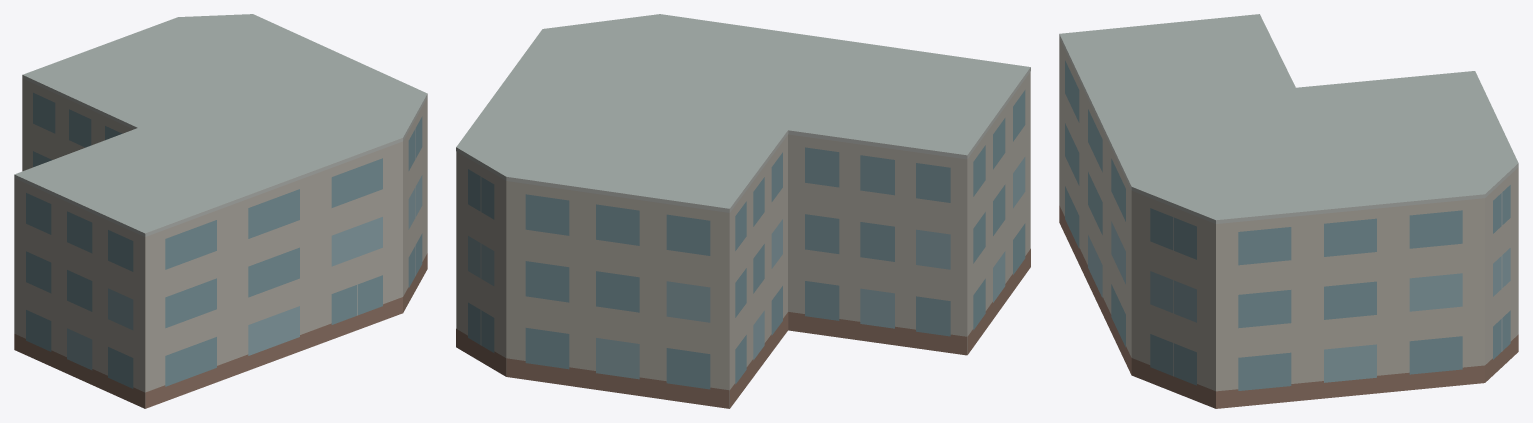
Rendered from survey-upis-32957498.glb.
3 views of the same model, side by side, from view 1: azimuth 30°, elevation 25°; view 2: azimuth 150°, elevation 25°; view 3: azimuth 270°, elevation 25° (orthographic). The views are drawn at different scales.
Visible parts, largest first — view 1: survey-upis-32957498.tmp; view 2: survey-upis-32957498.tmp; view 3: survey-upis-32957498.tmp.
Boxes of the visible parts, x1=… form: survey-upis-32957498.tmp: x1=14, y1=14, x2=427, y2=408; survey-upis-32957498.tmp: x1=456, y1=14, x2=1030, y2=408; survey-upis-32957498.tmp: x1=1059, y1=14, x2=1518, y2=408.
Bounding box in the file's own units: 27.66 × 11.8 × 26.04.
